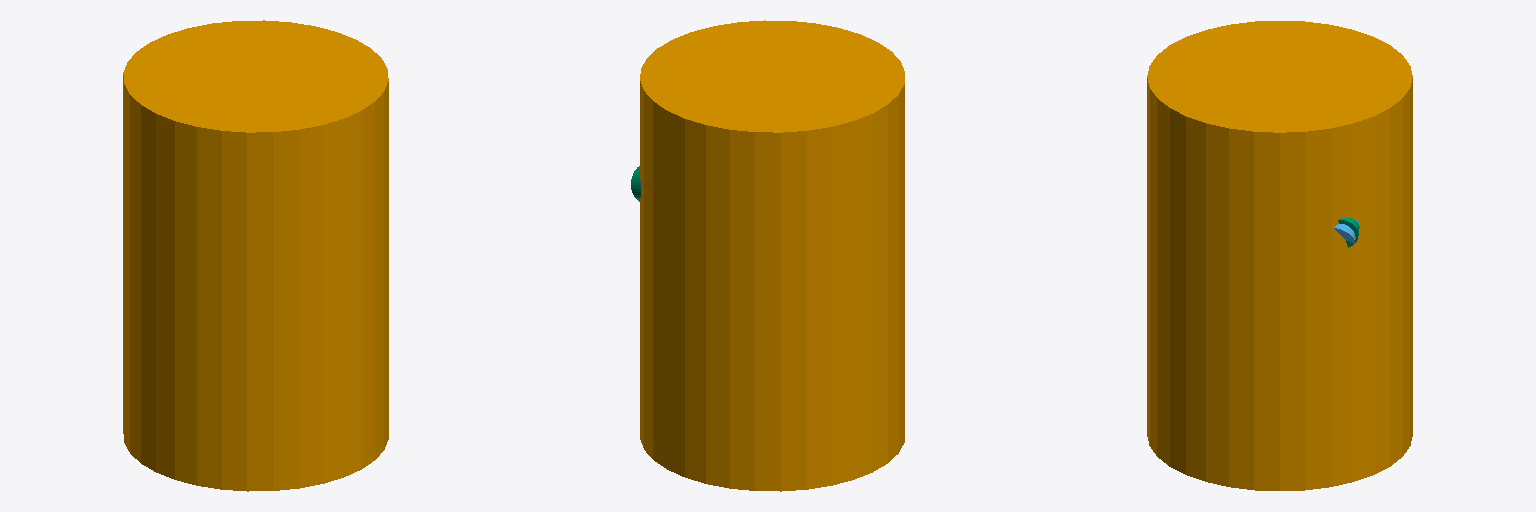
The robot description file, URDF, robot "pepe":
<?xml version="1.0"?><robot name="pepe">
	<link name="0">
		<visual>
			<geometry>
				<cylinder length="2.9780468539074367" radius="0.9999"/>
			</geometry>
		</visual>
		<collision>
			<geometry>
				<cylinder length="2.9780468539074367" radius="0.9999"/>
			</geometry>
		</collision>
		<inertial>
			<mass value="9.353939049816244"/>
			<inertia ixx="0.03" iyy="0.03" izz="0.03" ixy="0" ixz="0" iyx="0"/>
		</inertial>
	</link>
	<link name="11">
		<visual>
			<geometry>
				<cylinder length="0.2146823393420133" radius="0.13395371525019406"/>
			</geometry>
		</visual>
		<collision>
			<geometry>
				<cylinder length="0.2146823393420133" radius="0.13395371525019406"/>
			</geometry>
		</collision>
		<inertial>
			<mass value="0.012101960150834349"/>
			<inertia ixx="0.03" iyy="0.03" izz="0.03" ixy="0" ixz="0" iyx="0"/>
		</inertial>
	</link>
	<link name="12">
		<visual>
			<geometry>
				<cylinder length="0.2146823393420133" radius="0.13395371525019406"/>
			</geometry>
		</visual>
		<collision>
			<geometry>
				<cylinder length="0.2146823393420133" radius="0.13395371525019406"/>
			</geometry>
		</collision>
		<inertial>
			<mass value="0.012101960150834349"/>
			<inertia ixx="0.03" iyy="0.03" izz="0.03" ixy="0" ixz="0" iyx="0"/>
		</inertial>
	</link>
	<joint name="11_to_0" type="revolute">
		<parent link="0"/>
		<child link="11"/>
		<axis xyz="0 1 0"/>
		<limit effort="1" upper="-3.1415" lower="3.1415" velocity="1"/>
		<origin rpy="7.180913294929682 3.6577408159478253 1.5928548321915927" xyz="0.7672908757409634 0.46690638663701267 0.6079189761972736"/>
	</joint>
	<joint name="12_to_0" type="revolute">
		<parent link="0"/>
		<child link="12"/>
		<axis xyz="0 1 0"/>
		<limit effort="1" upper="-3.1415" lower="3.1415" velocity="1"/>
		<origin rpy="10.771369942394523 3.6577408159478253 1.5928548321915927" xyz="0.7672908757409634 0.46690638663701267 0.6079189761972736"/>
	</joint>
</robot>

--- Facts derived from the render (not from the file) ---
3 views of the same robot in one strip: view 1: azimuth 30°, elevation 25°; view 2: azimuth 150°, elevation 25°; view 3: azimuth 270°, elevation 25° (orthographic).
Robot: pepe — 3 links, 2 joints (2 revolute); root link 0; default pose: every joint at zero.
Links seen in each view (by area): view 1: 0; view 2: 0; view 3: 0.
Boxes of the visible links, <box> form: 0: <box>123,20,388,491</box>; 0: <box>640,20,904,491</box>; 0: <box>1147,21,1412,490</box>.
Size in the robot's own frame: 2 by 2 by 2.98 metres.
Geometry: primitives only (box / cylinder / sphere), no mesh files.
